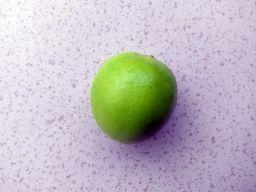lemon: (82, 38, 187, 151)
